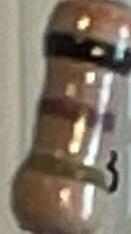Black: (41, 29, 131, 75)
Brown: (33, 94, 118, 135)
Orange: (51, 1, 131, 35)
Side-Gold: (17, 148, 109, 200)
